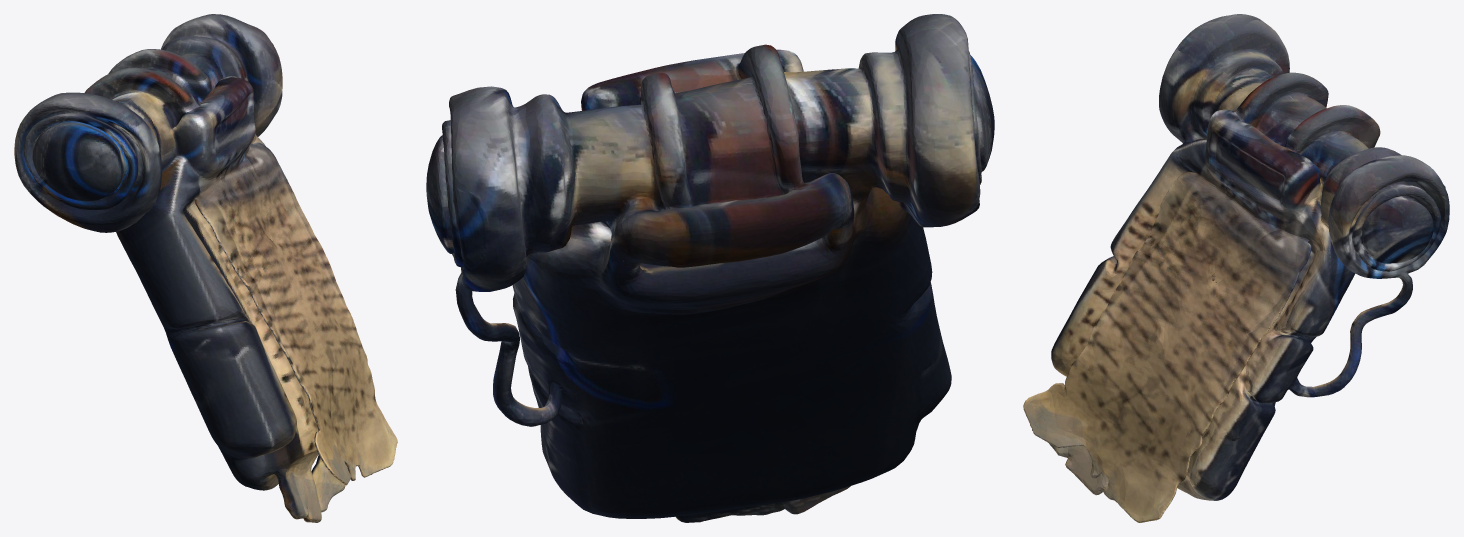
File: pilgrimage_last_days.glb
3 renders of one model, left to right at view 1: azimuth 30°, elevation 25°; view 2: azimuth 150°, elevation 25°; view 3: azimuth 270°, elevation 25°, orthographic. The views are drawn at different scales.
Size of the model in its own units: 1.63 by 1.99 by 1.94.
1 material, 1 textured.
